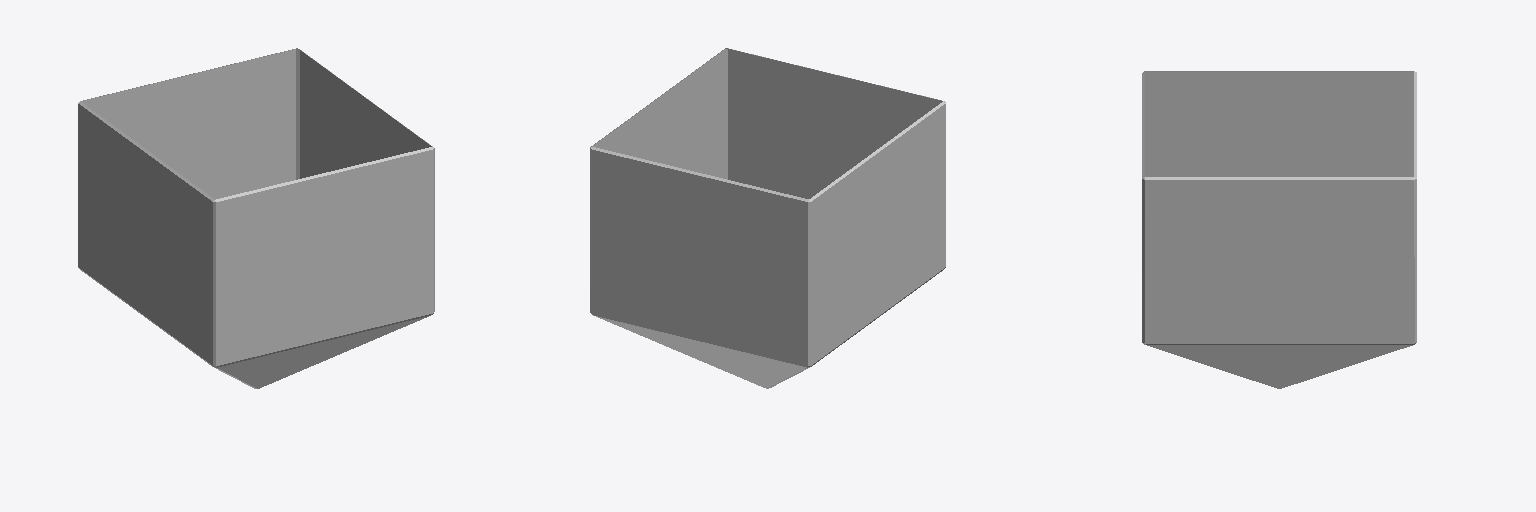
Rendered from faculty.obj.
The picture shows the model from 3 angles: view 1: azimuth 30°, elevation 25°; view 2: azimuth 150°, elevation 25°; view 3: azimuth 270°, elevation 25°; orthographic projection.
Size of the model in its own units: 2.24 by 2.54 by 2.41.